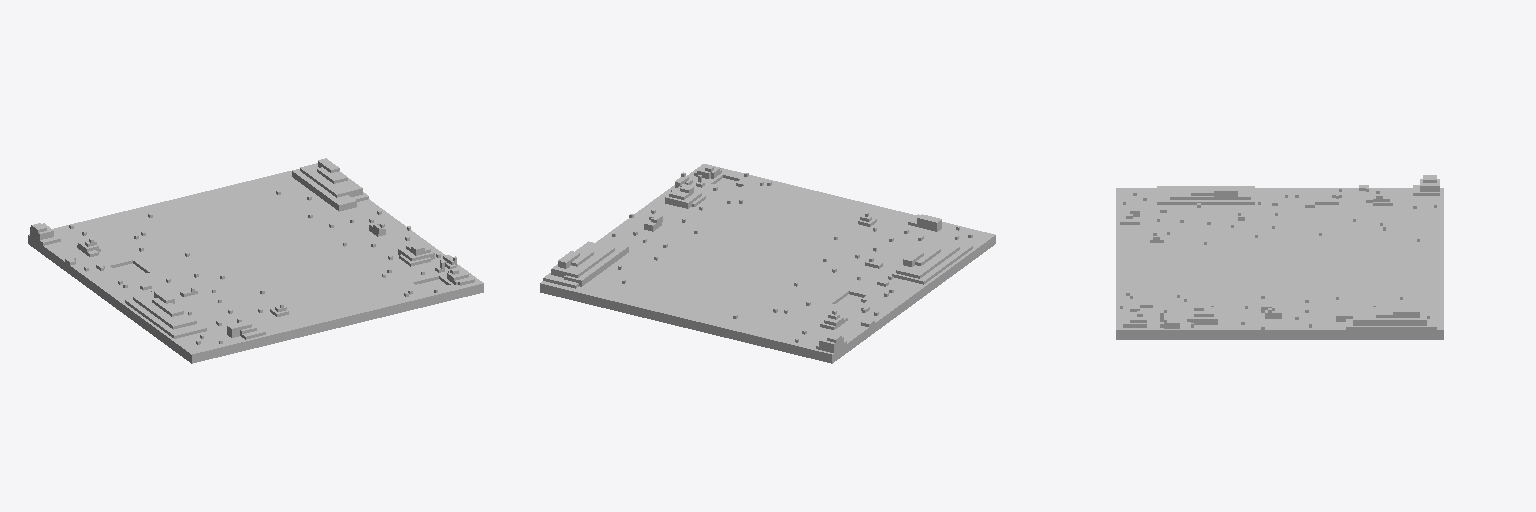
File: platform.vox.obj
The picture shows the model from 3 angles: view 1: azimuth 30°, elevation 25°; view 2: azimuth 150°, elevation 25°; view 3: azimuth 270°, elevation 25°; orthographic projection.
Visible parts, largest first — view 1: object 1; view 2: object 1; view 3: object 1.
Part boxes in pixels (left/top/right/bottom): object 1: left=28, top=158, right=483, bottom=363; object 1: left=540, top=164, right=995, bottom=363; object 1: left=1116, top=175, right=1443, bottom=339.
Size of the model in its own units: 10 by 0.8 by 9.7.